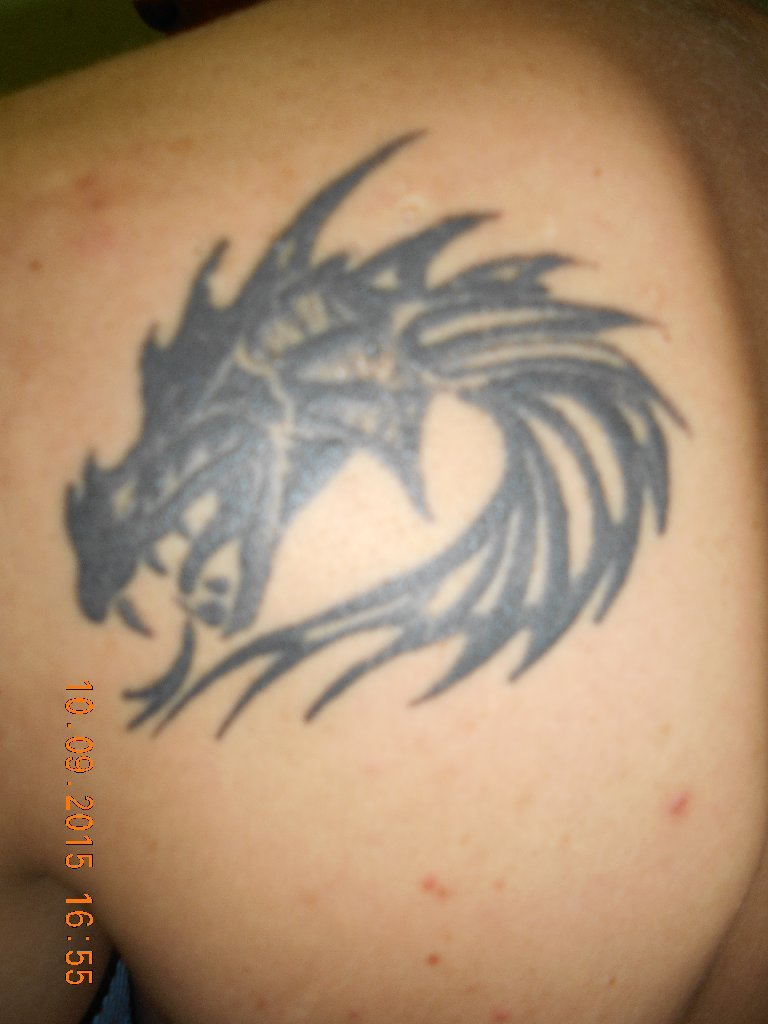tatu6_drakon: (54, 99, 703, 760)
